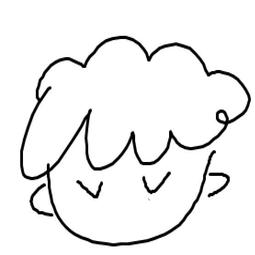closed_eye: (136, 168, 175, 199), (69, 181, 109, 205)
ear: (195, 165, 236, 202), (20, 183, 56, 220)
